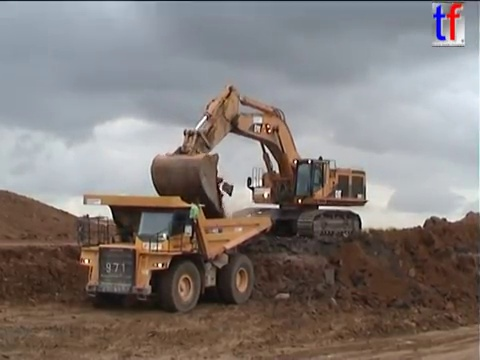excavator: (148, 82, 371, 246)
truck: (74, 191, 273, 313)
worker: (186, 198, 202, 244)
